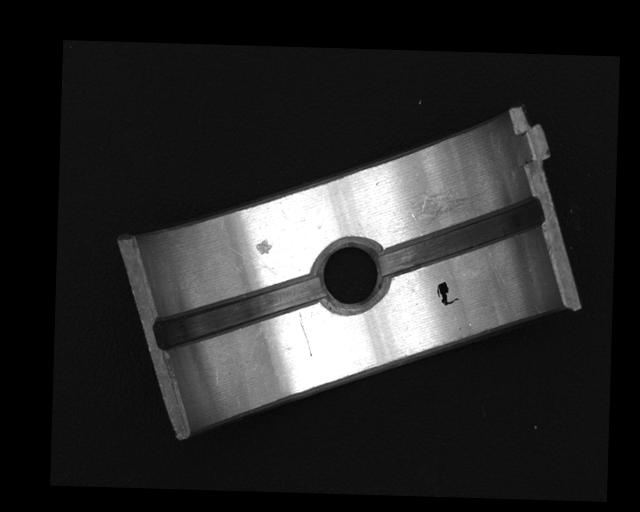blot: (435, 280, 460, 306)
bruise: (255, 237, 274, 256)
gap: (378, 193, 544, 279)
hole: (155, 269, 325, 354), (315, 241, 389, 314)
nick: (295, 309, 314, 357)
scratch: (392, 190, 485, 239)
